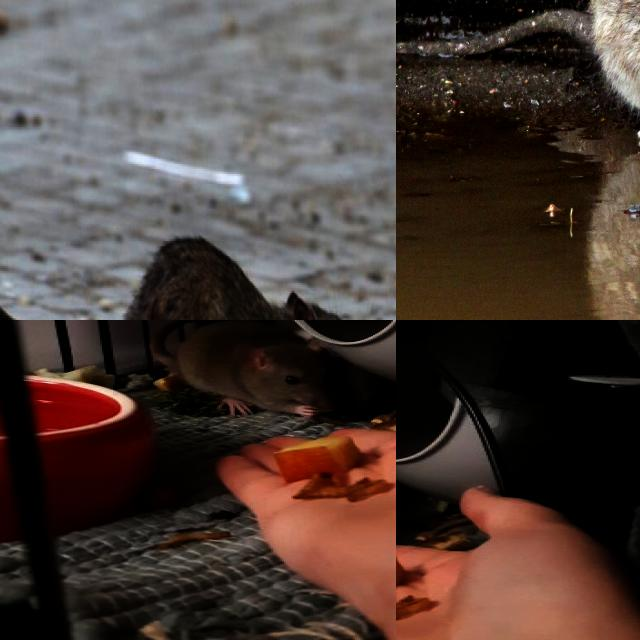rat: (95, 231, 367, 320), (175, 320, 340, 417)
